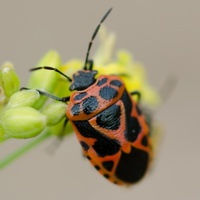insect: (30, 8, 150, 183)
